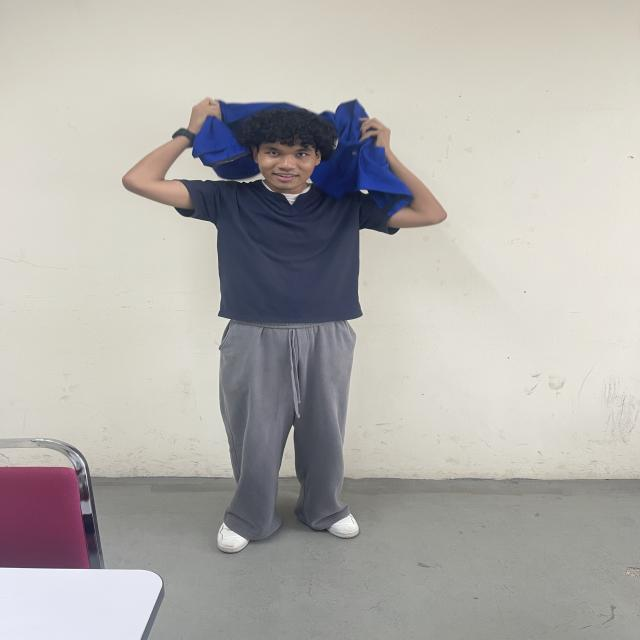person_without_labcoat: (123, 99, 446, 553)
